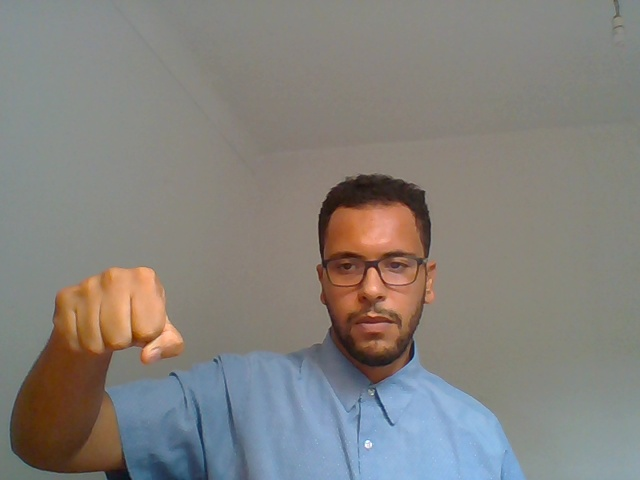yes: (33, 243, 192, 396)
